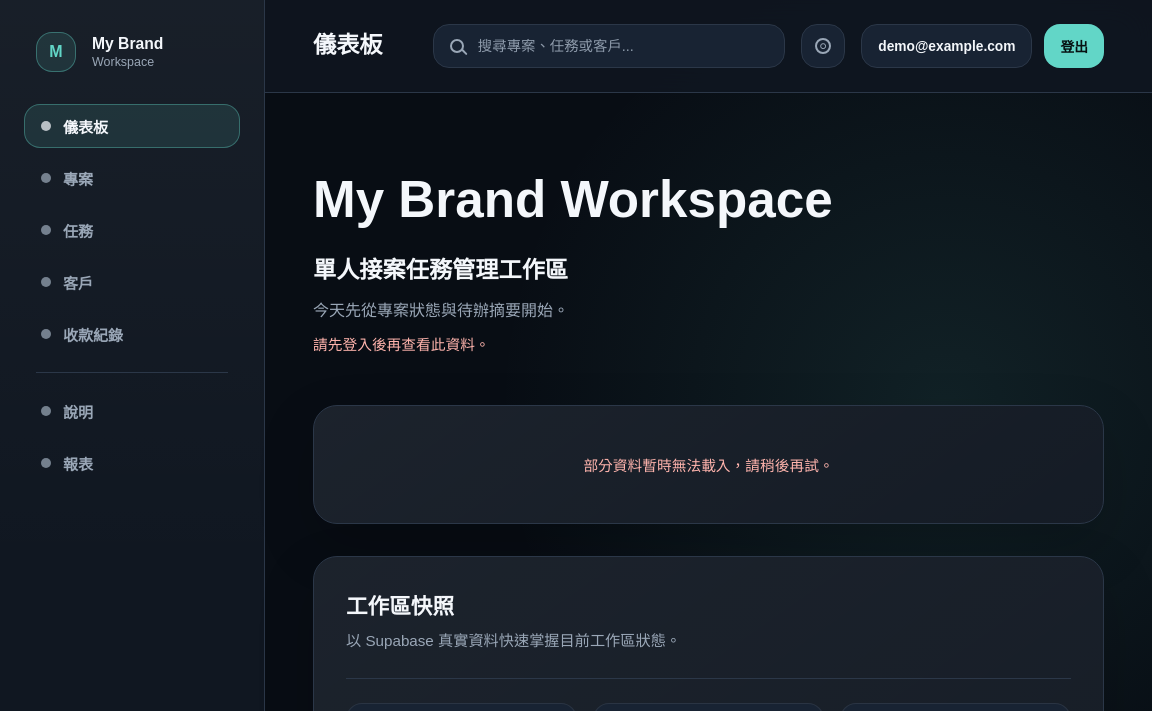
Test: Simplified navigation structure › settings gear icon is in the navbar and navigates to /settings
Click the link named "設定" at (823, 46), box [801,24,845,68]
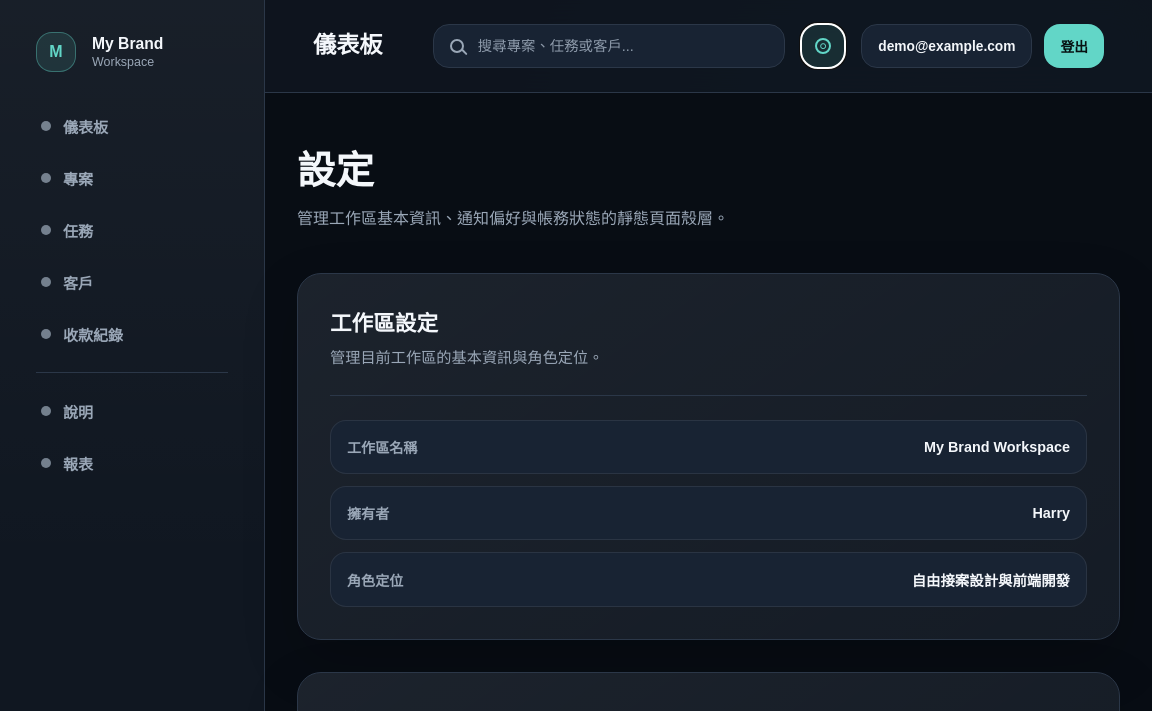
Result: the heading "設定" is shown at [297,149,374,192]
